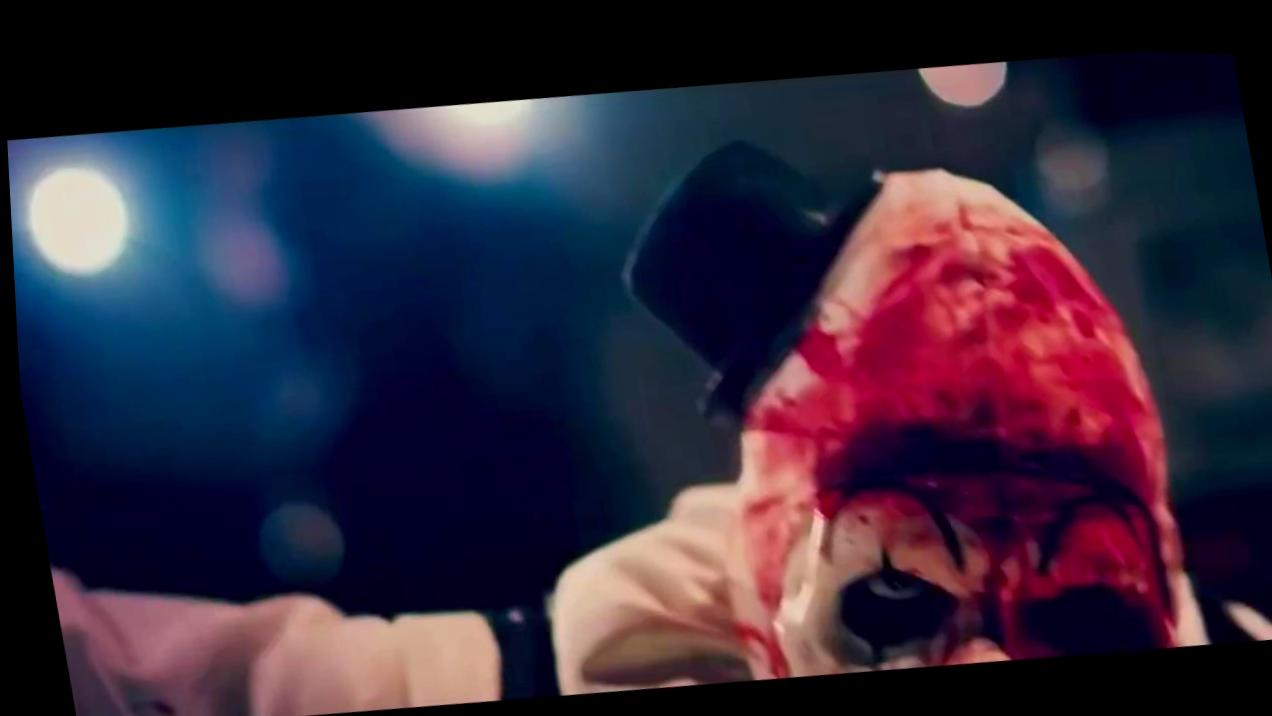Fire: (684, 192, 1177, 670), (834, 291, 860, 314)
